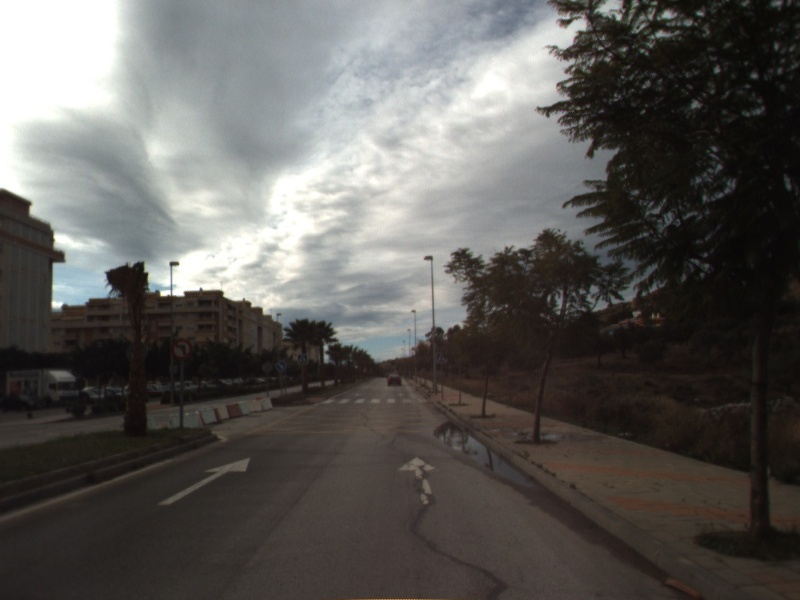STRAIGHT: (155, 455, 252, 507), (396, 455, 441, 506)
